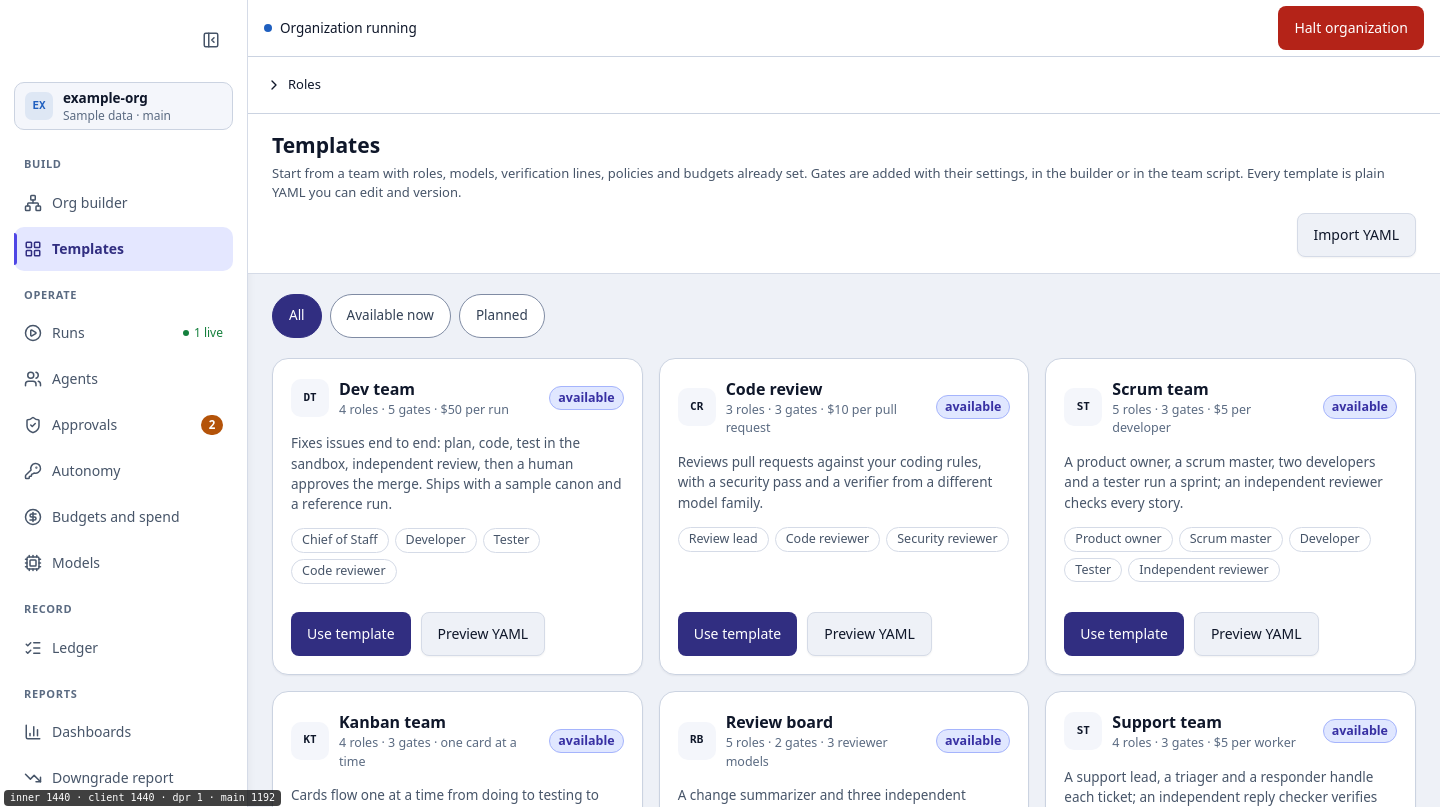
Test: Templates › shows the Planned filter when a template is planned, and it lists only that one
Check: the heading "Dev team" is shown, box [339,378,415,400]
Click the button "Planned".
click(502, 316)  # box [459,294,545,338]
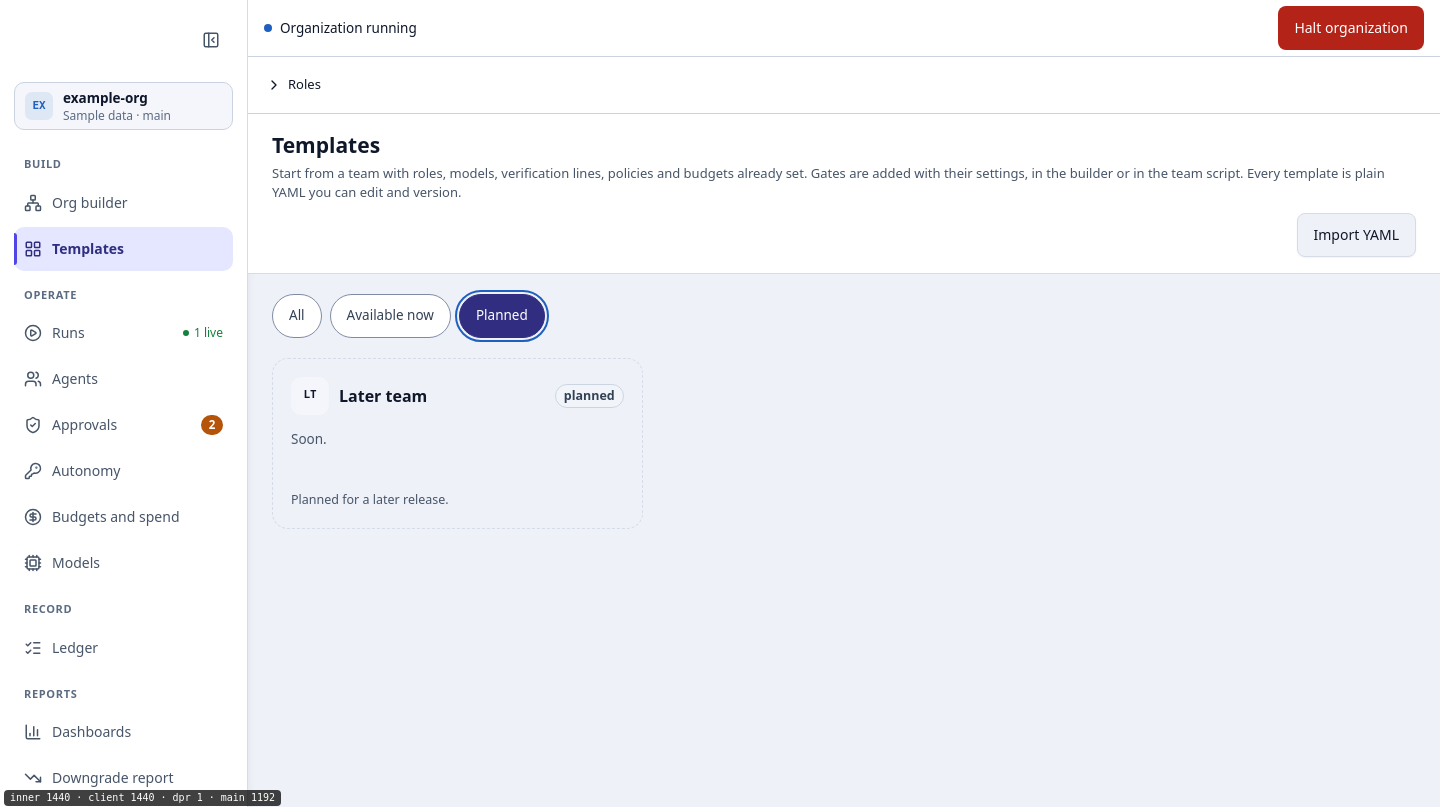
Check: the heading "Later team" is shown, box [339,384,427,406]
Check: the heading "Support team" is gone
